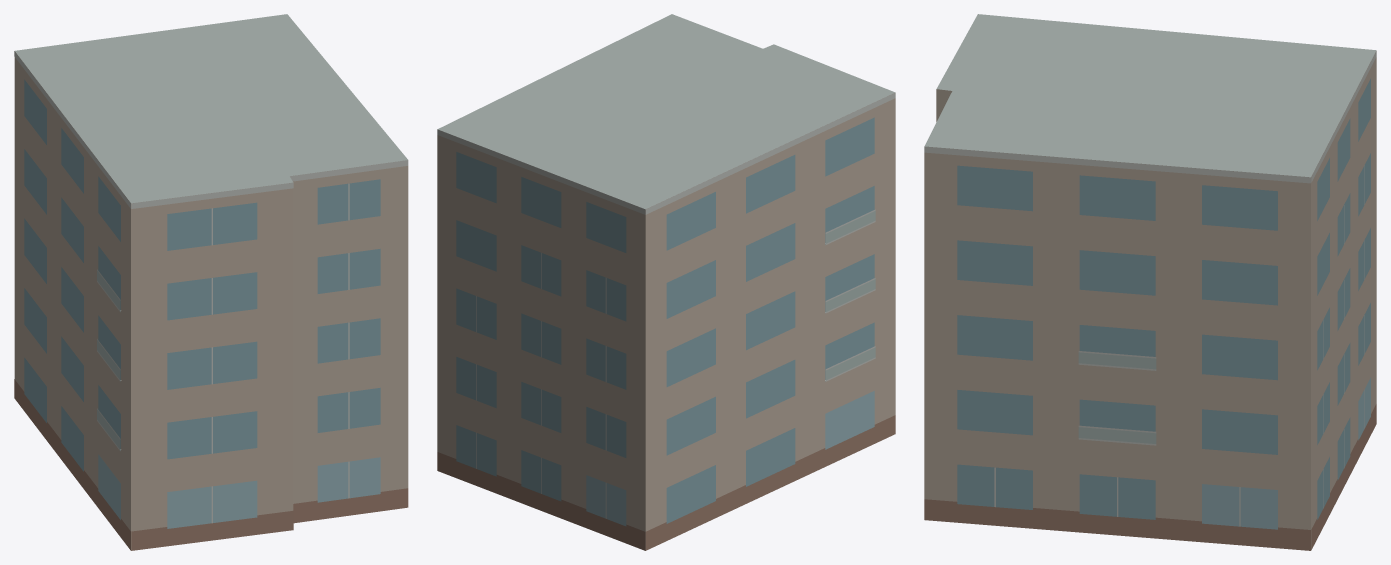
File: survey-upis-32737230.glb
The picture shows the model from 3 angles, left to right: view 1: azimuth 30°, elevation 25°; view 2: azimuth 150°, elevation 25°; view 3: azimuth 270°, elevation 25°; orthographic projection. The views are drawn at different scales.
Parts seen in each view (by area): view 1: survey-upis-32737230.tmp; view 2: survey-upis-32737230.tmp; view 3: survey-upis-32737230.tmp.
Boxes of the visible parts, x1=… form: survey-upis-32737230.tmp: x1=14, y1=14, x2=408, y2=550; survey-upis-32737230.tmp: x1=437, y1=14, x2=895, y2=550; survey-upis-32737230.tmp: x1=924, y1=14, x2=1376, y2=550.
Bounding box in the file's own units: 13.83 × 14.75 × 16.2.
